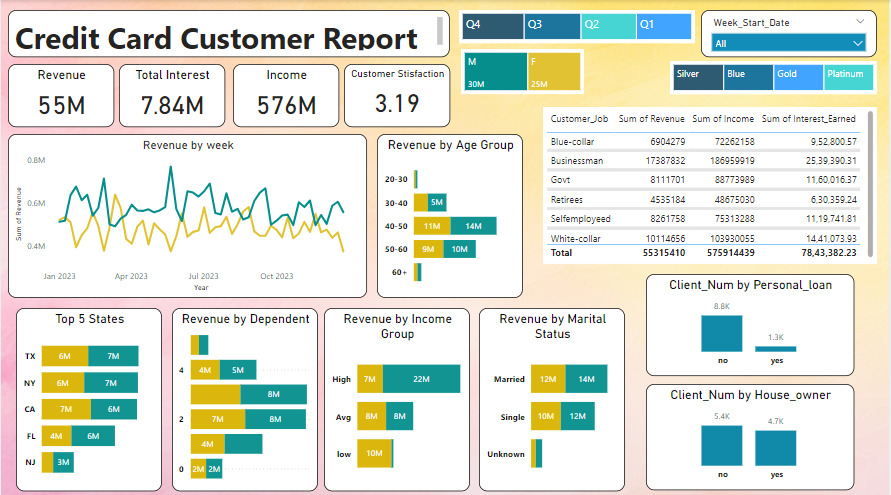

This screenshot's page, from the dashboard's own definition file:
{"tool":"powerbi","page":{"name":"Page 3","canvas":[1280,720],"ordinal":2},"visuals":[{"type":"textbox","box":[10.1,14.4,636.5,67.7],"z":0},{"type":"barChart","title":" Revenue by Income Group","fields":{"Category":["customer.IncomeGroup"],"Y":["Sum(creditcard.Revenue)"],"Series":["customer.Gender"]},"box":[465.1,443.5,210.2,263.5],"z":1000},{"type":"tableEx","fields":{"Values":["customer.Customer_Job","Sum(creditcard.Revenue)","Sum(customer.Income)","Sum(creditcard.Interest_Earned)"]},"box":[780.5,154.1,481,226.1],"z":2000},{"type":"card","title":"Revenue","fields":{"Values":["Sum(creditcard.Revenue)"]},"box":[10.1,92.2,152.6,90.7],"z":3000},{"type":"card","title":"Income","fields":{"Values":["Sum(customer.Income)"]},"box":[334.1,92.2,152.6,90.7],"z":4000},{"type":"card","title":"Total Interest","fields":{"Values":["Sum(creditcard.Interest_Earned)"]},"box":[169.9,92.2,152.6,90.7],"z":5000},{"type":"card","title":"Customer Stisfaction","fields":{"Values":["Avg(customer.Cust_Satisfaction_Score)"]},"box":[493.9,92.2,152.6,90.7],"z":6000},{"type":"slicer","fields":{"Values":["creditcard.Week_Start_Date"]},"box":[1008,14.4,253.4,67.7],"z":7000},{"type":"treemap","fields":{"Group":["creditcard.Qtr"],"Values":["Avg(creditcard.Client_Num)"]},"box":[659.5,14.4,339.8,47.5],"z":8000},{"type":"treemap","fields":{"Group":["creditcard.Card_Category"],"Values":["Avg(creditcard.Client_Num)"]},"box":[963.4,87.8,298.1,47.5],"z":9000},{"type":"lineChart","title":"Revenue by week","fields":{"Y":["Sum(creditcard.Revenue)"],"Series":["customer.Gender"],"Category":["creditcard.Week_Start_Date.Variation.Date Hierarchy.Year","creditcard.Week_Start_Date.Variation.Date Hierarchy.Month","creditcard.Week_Start_Date.Variation.Date Hierarchy.Day"]},"box":[10.1,193,517,236.2],"z":11000},{"type":"treemap","fields":{"Group":["customer.Gender"],"Values":["Sum(creditcard.Revenue)"]},"box":[662.4,70.6,177.1,64.8],"z":12000},{"type":"columnChart","title":"Client_Num by Personal_loan","fields":{"Category":["customer.Personal_loan"],"Y":["CountNonNull(customer.Client_Num)"]},"box":[928.8,394.6,299.5,146.9],"z":13000},{"type":"barChart","title":" Revenue by Age Group","fields":{"Category":["customer.Age_group"],"Y":["Sum(creditcard.Revenue)"],"Series":["customer.Gender"]},"box":[541.4,193,210.2,236.2],"z":14000},{"type":"barChart","title":"Top 5 States","fields":{"Category":["customer.state_cd"],"Y":["Sum(creditcard.Revenue)"],"Series":["customer.Gender"]},"box":[21.6,443.5,210.2,263.5],"z":15000},{"type":"barChart","title":"Revenue by Dependent ","fields":{"Y":["Sum(creditcard.Revenue)"],"Category":["customer.Dependent_Count"],"Series":["customer.Gender"]},"box":[246.2,443.5,210.2,263.5],"z":16000},{"type":"barChart","title":"Revenue by Marital Status","fields":{"Y":["Sum(creditcard.Revenue)"],"Category":["customer.Marital_Status"],"Series":["customer.Gender"]},"box":[688.3,443.5,210.2,263.5],"z":17000},{"type":"columnChart","title":"Client_Num by House_owner","fields":{"Category":["customer.House_Owner"],"Y":["CountNonNull(customer.Client_Num)"]},"box":[928.8,553,299.5,152.6],"z":18000}]}

Visuals, with their boxes in screenshot pixels (x1, y1, x2, y2), scaled from the page's 1280x720 canvas onto the 891x495 screenshot:
textbox: (x1=7, y1=10, x2=450, y2=56)
" Revenue by Income Group" barChart: (x1=324, y1=305, x2=470, y2=486)
tableEx - customer.Customer_Job x Sum(creditcard.Revenue): (x1=543, y1=106, x2=878, y2=261)
"Revenue" card: (x1=7, y1=63, x2=113, y2=126)
"Income" card: (x1=233, y1=63, x2=339, y2=126)
"Total Interest" card: (x1=118, y1=63, x2=224, y2=126)
"Customer Stisfaction" card: (x1=344, y1=63, x2=450, y2=126)
slicer - creditcard.Week_Start_Date: (x1=702, y1=10, x2=878, y2=56)
treemap - creditcard.Qtr x Avg(creditcard.Client_Num): (x1=459, y1=10, x2=696, y2=43)
treemap - creditcard.Card_Category x Avg(creditcard.Client_Num): (x1=671, y1=60, x2=878, y2=93)
"Revenue by week" lineChart: (x1=7, y1=133, x2=367, y2=295)
treemap - customer.Gender x Sum(creditcard.Revenue): (x1=461, y1=49, x2=584, y2=93)
"Client_Num by Personal_loan" columnChart: (x1=647, y1=271, x2=855, y2=372)
" Revenue by Age Group" barChart: (x1=377, y1=133, x2=523, y2=295)
"Top 5 States" barChart: (x1=15, y1=305, x2=161, y2=486)
"Revenue by Dependent " barChart: (x1=171, y1=305, x2=318, y2=486)
"Revenue by Marital Status" barChart: (x1=479, y1=305, x2=625, y2=486)
"Client_Num by House_owner" columnChart: (x1=647, y1=380, x2=855, y2=485)
